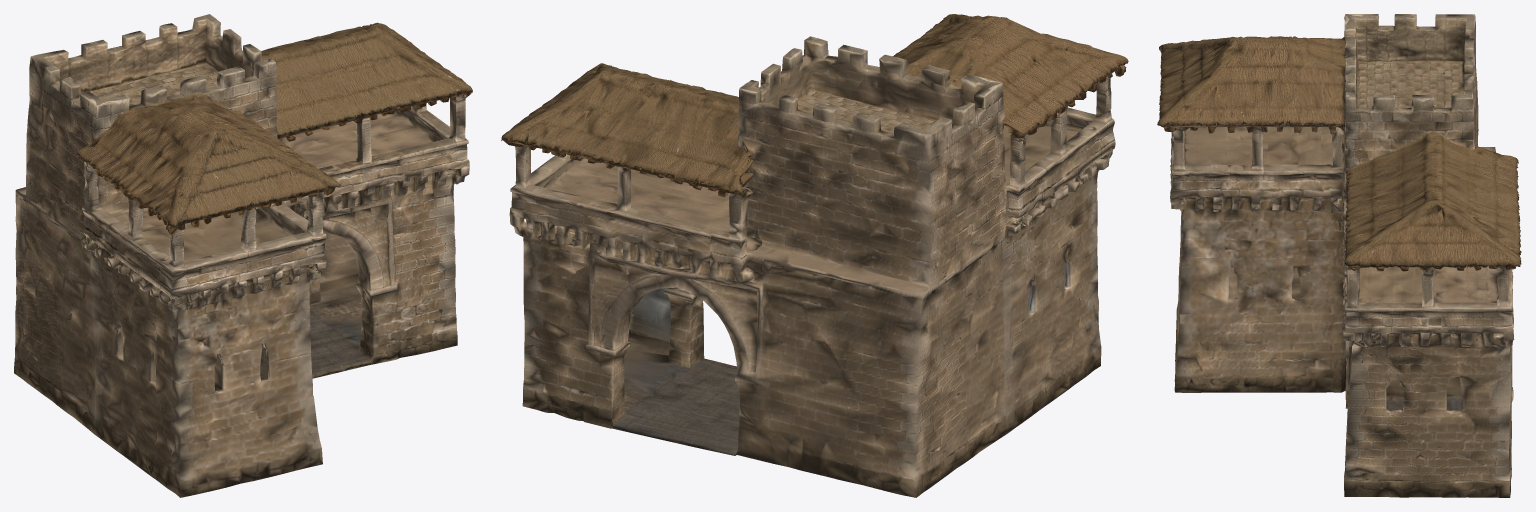
Rendered from fort_m_citadel_gate.glb.
3 renders of one model, left to right at view 1: azimuth 30°, elevation 25°; view 2: azimuth 150°, elevation 25°; view 3: azimuth 270°, elevation 25°, orthographic. The views are drawn at different scales.
Visible parts, largest first — view 1: fort_m_citadel_gate; view 2: fort_m_citadel_gate; view 3: fort_m_citadel_gate.
Boxes of the visible parts, x1,y1,x2,y2 form: fort_m_citadel_gate: [14, 14, 472, 497]; fort_m_citadel_gate: [501, 14, 1128, 497]; fort_m_citadel_gate: [1157, 14, 1521, 497].
Size of the model in its own units: 1.9 by 1.49 by 1.55.
Materials: 1 (1 with a texture image).
